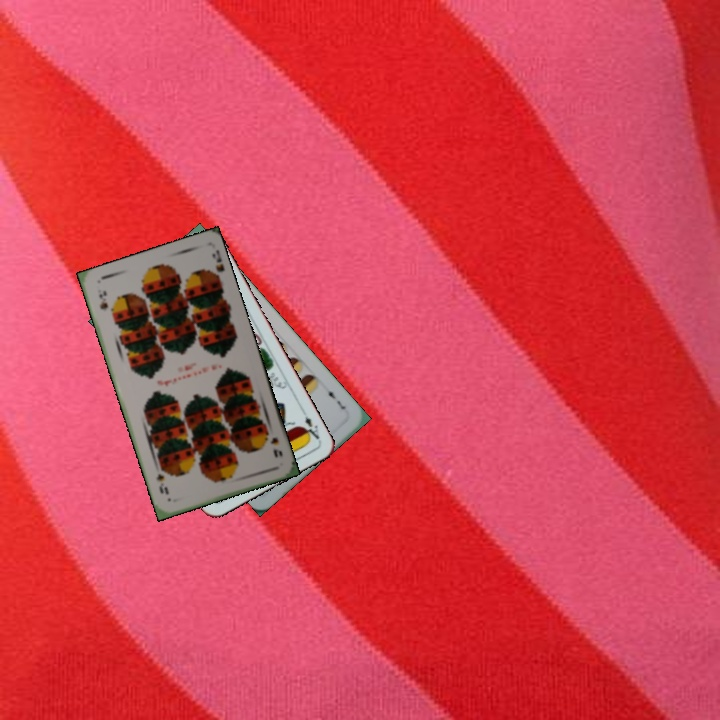E7: (322, 383, 348, 412)
EA: (298, 412, 322, 445)
S9: (260, 425, 285, 460), (95, 287, 110, 312)
